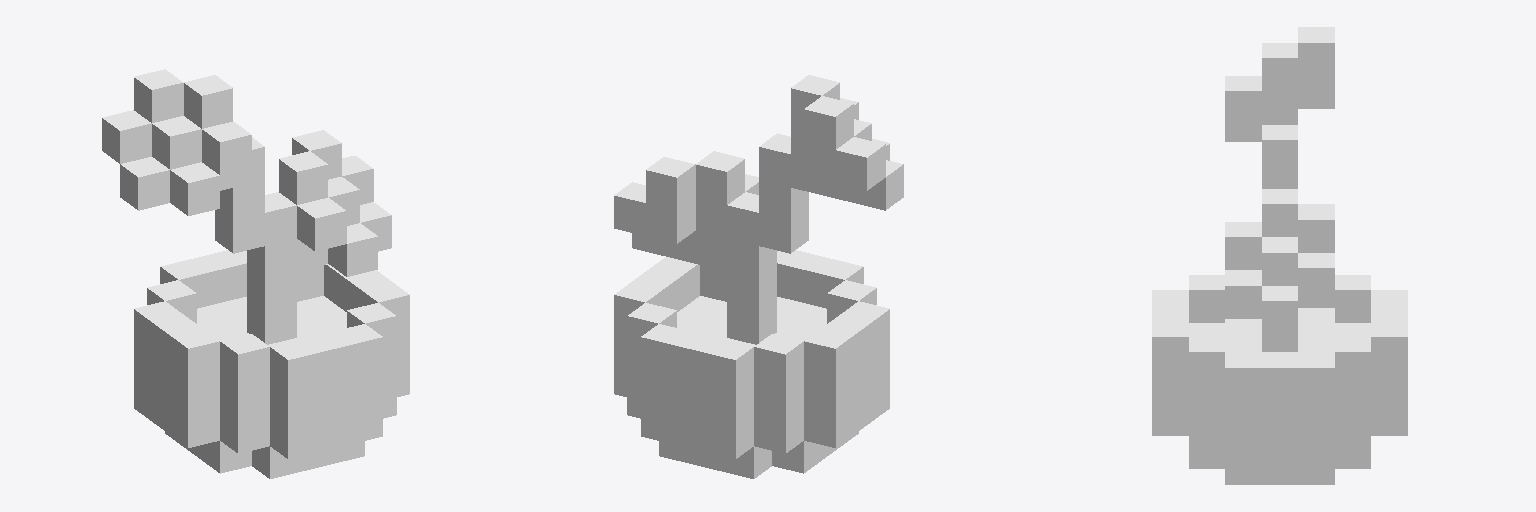
File: miniflower.yellow.obj
The picture shows the model from 3 angles: view 1: azimuth 30°, elevation 25°; view 2: azimuth 150°, elevation 25°; view 3: azimuth 270°, elevation 25°; orthographic projection.
Parts seen in each view (by area): view 1: object 1; view 2: object 1; view 3: object 1.
Boxes of the visible parts, box(x1,y1,x2,y2) form: object 1: box(102, 69, 409, 478); object 1: box(614, 75, 903, 478); object 1: box(1152, 27, 1407, 484).
Bounding box in the file's own units: 0.8 × 1.1 × 0.7.